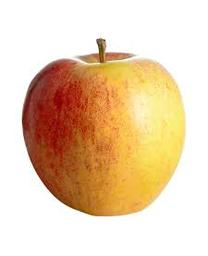apple: (20, 44, 186, 216)
